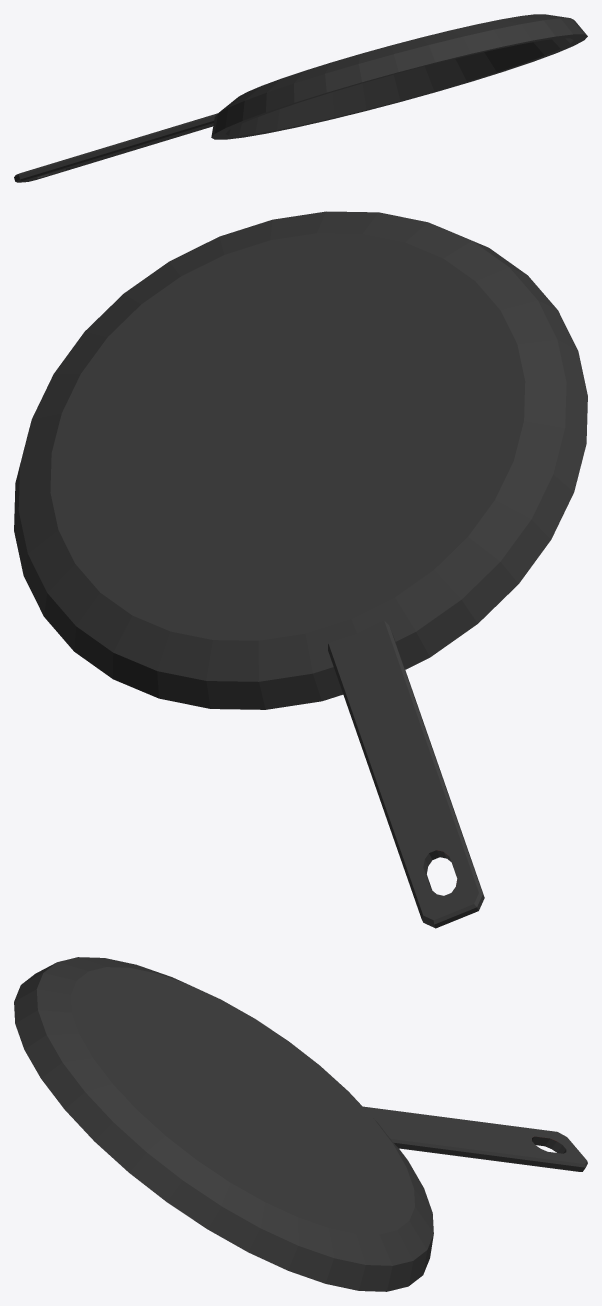
File: pan.glb
3 renders of one model, top to bottom at view 1: azimuth 30°, elevation 25°; view 2: azimuth 150°, elevation 25°; view 3: azimuth 270°, elevation 25°, orthographic. The views are drawn at different scales.
Visible parts, largest first — view 1: Pan; view 2: Pan; view 3: Pan.
Boxes of the visible parts, box(x1,y1,x2,y2) form: Pan: box(14, 14, 587, 182); Pan: box(14, 211, 587, 928); Pan: box(14, 957, 587, 1291).
Bounding box in the file's own units: 1.51 × 0.8553 × 1.41.
2 materials, 2 textured.
